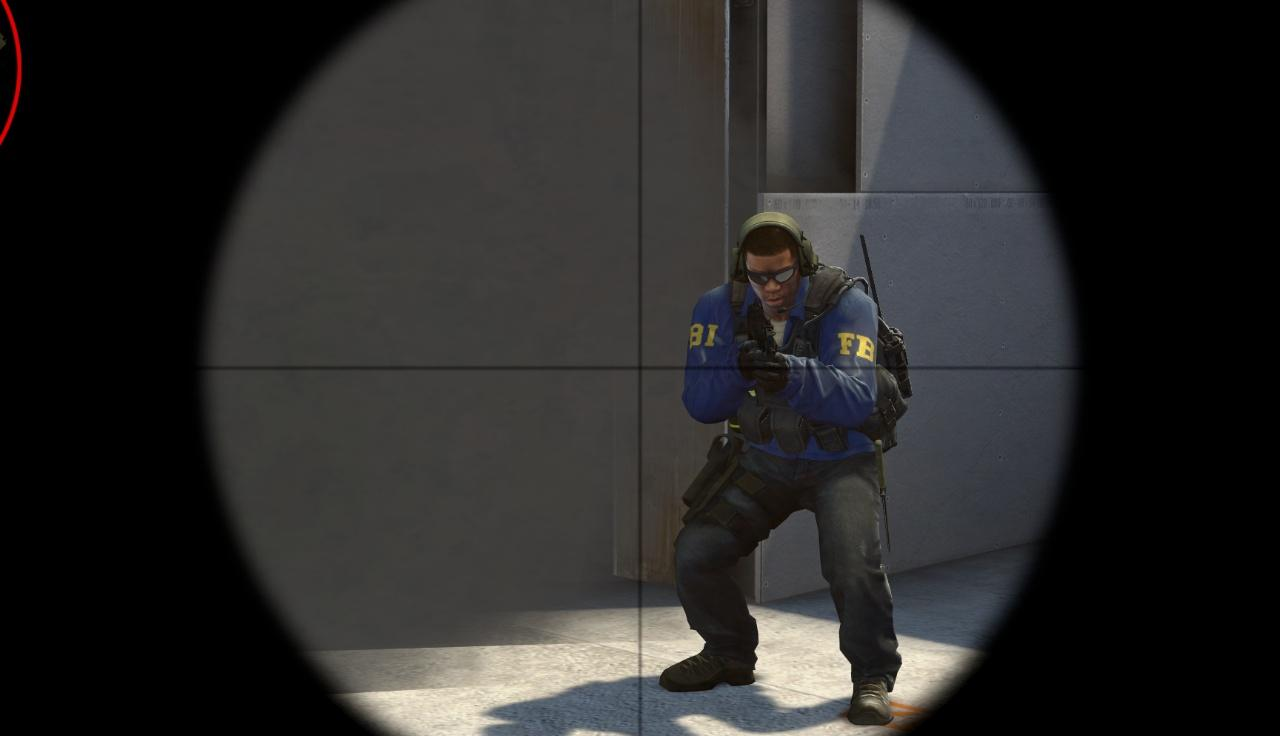ct: (686, 209, 886, 726)
cthead: (744, 221, 803, 309)
